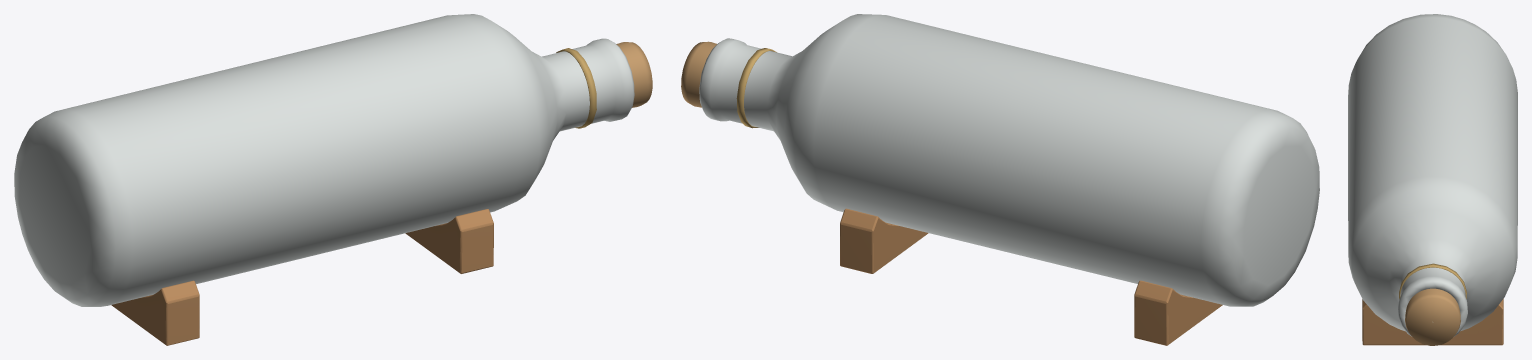
The model's file is rowboat-bottle-v9-lod.fbx.
3 renders of one model, left to right at view 1: azimuth 30°, elevation 25°; view 2: azimuth 150°, elevation 25°; view 3: azimuth 270°, elevation 25°, orthographic. The views are drawn at different scales.
Parts seen in each view (by area): view 1: Bottle | lightweight transparent glass, Rowboat | lightweight opaque assembly; view 2: Bottle | lightweight transparent glass, Rowboat | lightweight opaque assembly; view 3: Bottle | lightweight transparent glass, Rowboat | lightweight opaque assembly.
Part boxes in pixels (box(x1,y1,x2,y2)): Bottle | lightweight transparent glass: box(14, 14, 634, 306); Rowboat | lightweight opaque assembly: box(111, 42, 652, 345); Bottle | lightweight transparent glass: box(699, 14, 1319, 306); Rowboat | lightweight opaque assembly: box(681, 41, 1222, 345); Bottle | lightweight transparent glass: box(1348, 14, 1517, 336); Rowboat | lightweight opaque assembly: box(1362, 263, 1503, 345).
Bounding box in the file's own units: 188 × 64.69 × 56.47.
